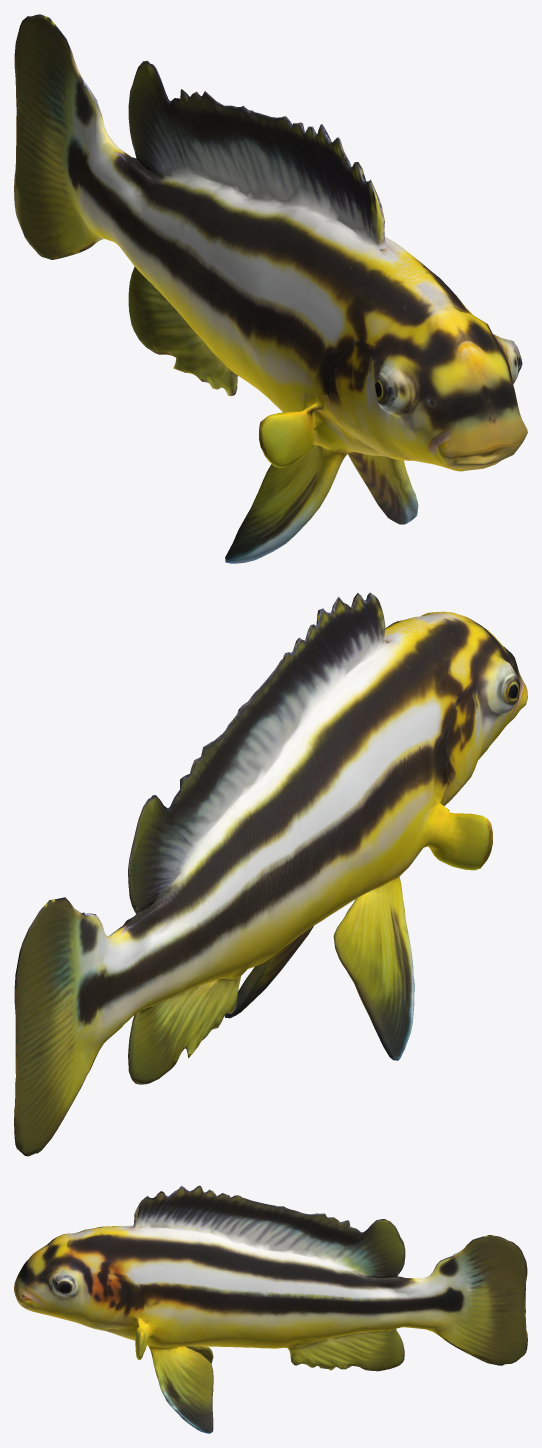
File: niasa_0604070030_texture.glb
The picture shows the model from 3 angles, top to bottom: view 1: azimuth 30°, elevation 25°; view 2: azimuth 150°, elevation 25°; view 3: azimuth 270°, elevation 25°; orthographic projection. The views are drawn at different scales.
Size of the model in its own units: 0.5572 by 0.9707 by 2.
1 material, 1 textured.
